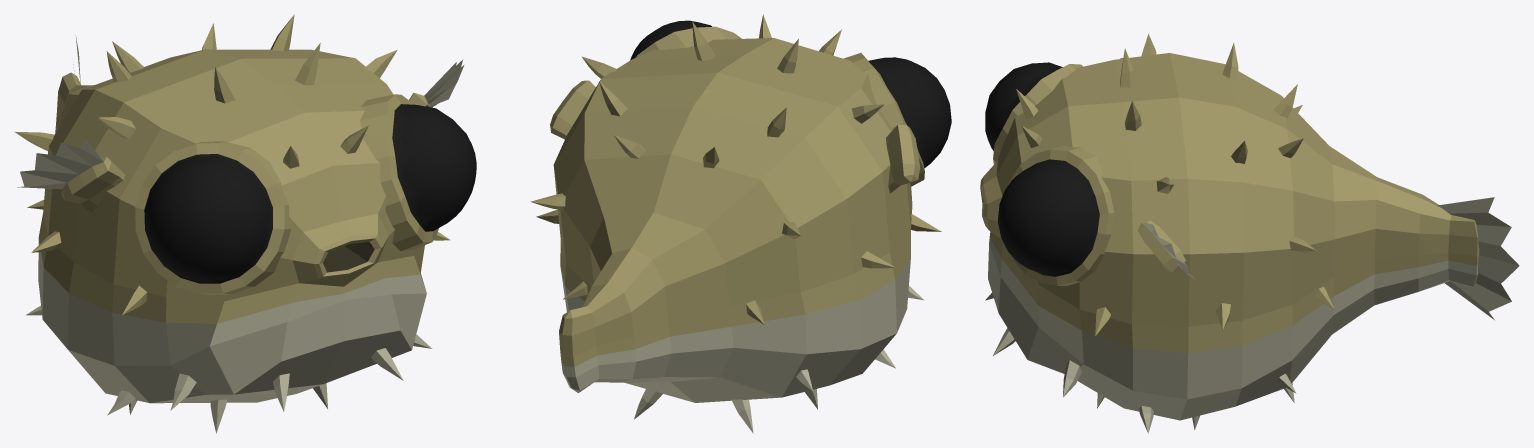
Rendered from puffer.glb.
3 views of the same model, side by side, from view 1: azimuth 30°, elevation 25°; view 2: azimuth 150°, elevation 25°; view 3: azimuth 270°, elevation 25° (orthographic). The views are drawn at different scales.
Visible parts, largest first — view 1: Pufferfish_Cube.002, Pufferfish.002_Cube.001; view 2: Pufferfish_Cube.002, Pufferfish.002_Cube.001; view 3: Pufferfish_Cube.002, Pufferfish.002_Cube.001.
Part boxes in pixels (bbox=[...]): Pufferfish_Cube.002: bbox=[14, 14, 476, 433]; Pufferfish.002_Cube.001: bbox=[17, 60, 464, 212]; Pufferfish_Cube.002: bbox=[530, 14, 951, 433]; Pufferfish.002_Cube.001: bbox=[550, 80, 920, 193]; Pufferfish_Cube.002: bbox=[980, 34, 1519, 433]; Pufferfish.002_Cube.001: bbox=[1120, 58, 1194, 278].
Size of the model in its own units: 3.44 by 2.69 by 3.94.
